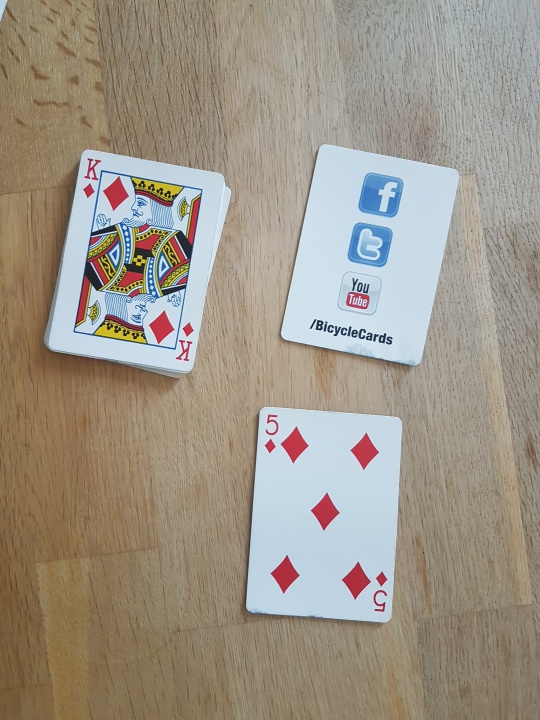5: (240, 397, 406, 634)
king: (45, 134, 224, 388)
